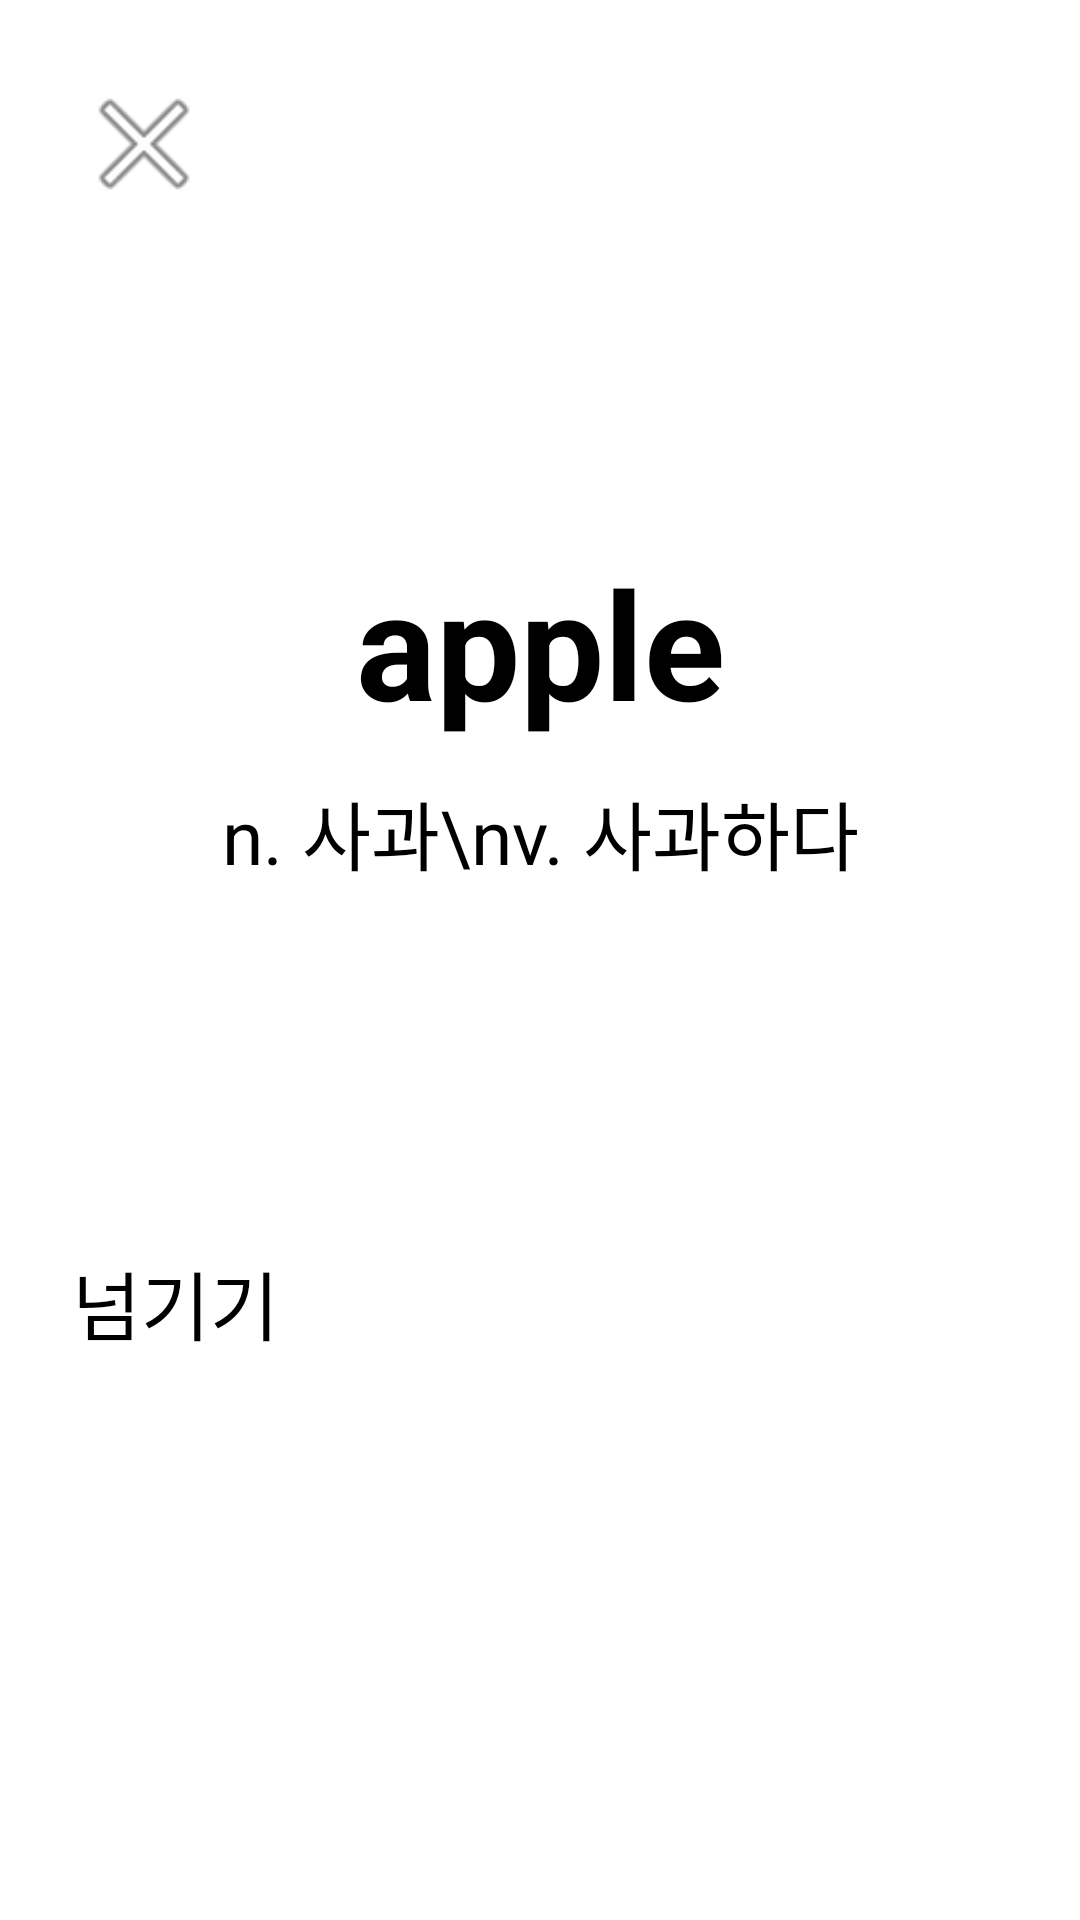

Icon bounding boxes for this 1080px x 1920px phone screenshot, format {"left": x1, "top": y1, "right": x2, "bottom": y2}:
닫기: {"left": 99, "top": 99, "right": 189, "bottom": 189}
